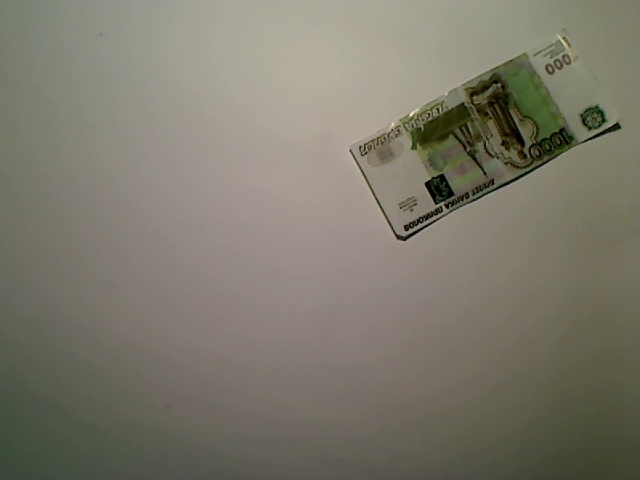banknotes: (345, 20, 628, 244)
